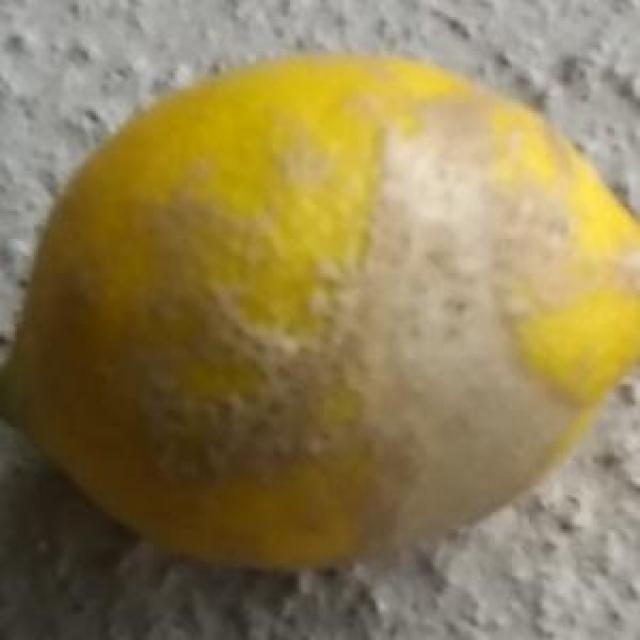lemon: (7, 52, 640, 574)
